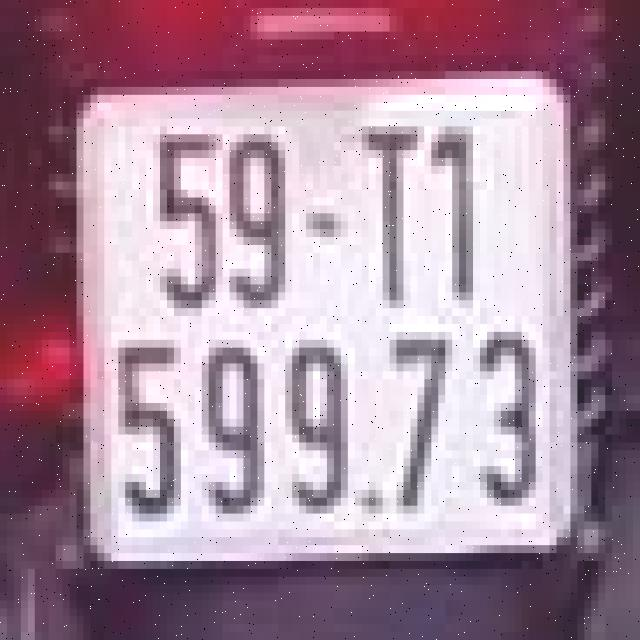1: (421, 103, 497, 316)
3: (459, 320, 543, 510)
5: (108, 324, 184, 529), (150, 115, 219, 320)
7: (386, 328, 456, 541)
9: (191, 328, 268, 541), (219, 115, 296, 320), (278, 324, 355, 529)
T: (351, 115, 421, 320)
